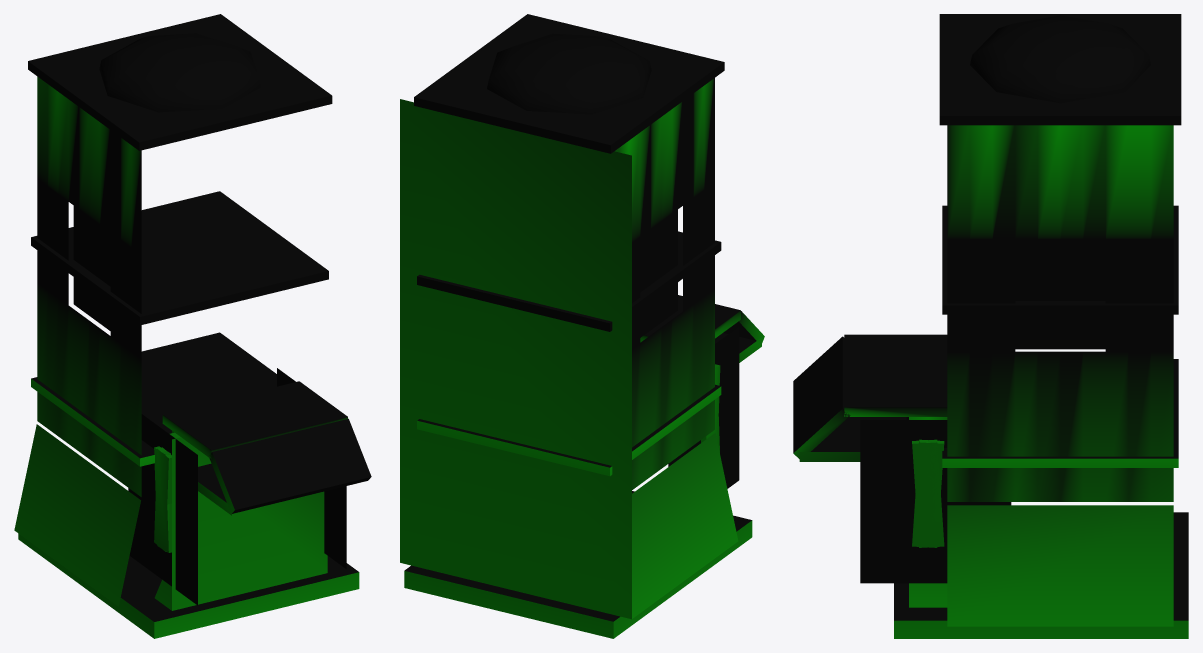
Rendered from l_mediumpost.glb.
3 views of the same model, side by side, from view 1: azimuth 30°, elevation 25°; view 2: azimuth 150°, elevation 25°; view 3: azimuth 270°, elevation 25° (orthographic). The views are drawn at different scales.
Visible parts, largest first — view 1: lod0; view 2: lod0; view 3: lod0.
Part boxes in pixels (box(x1,y1,x2,y2)): lod0: box(14, 14, 371, 638); lod0: box(400, 14, 764, 638); lod0: box(793, 14, 1188, 638).
Size of what is drawn, in the model's own units: 5.65 by 12.1 by 7.86.
